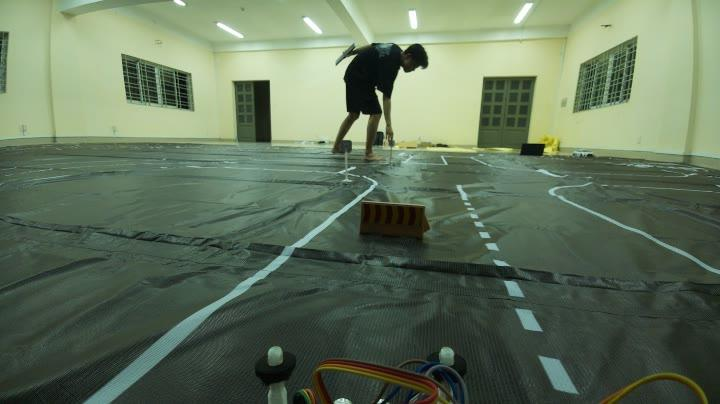roadblock: (350, 190, 439, 246)
